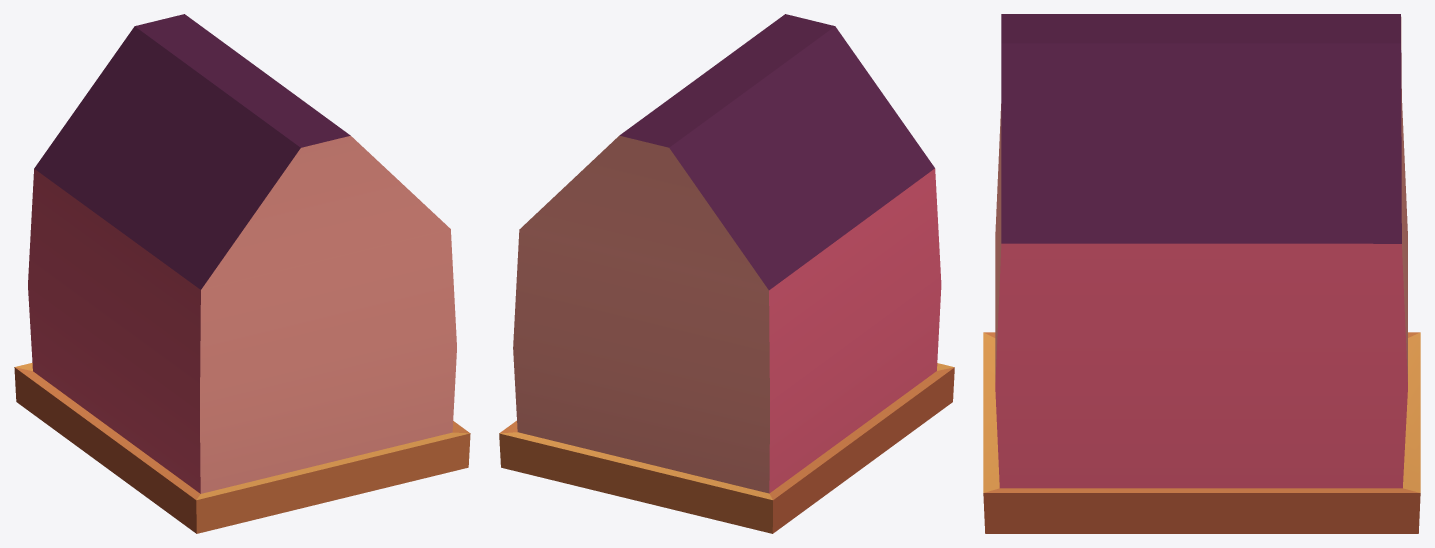
Rendered from House01_Pink_Wood.glb.
3 views of the same model, side by side, from view 1: azimuth 30°, elevation 25°; view 2: azimuth 150°, elevation 25°; view 3: azimuth 270°, elevation 25° (orthographic). The views are drawn at different scales.
Parts seen in each view (by area): view 1: House01_Pink_Wood; view 2: House01_Pink_Wood; view 3: House01_Pink_Wood.
Boxes of the visible parts, left/top/right/bottom form: House01_Pink_Wood: left=14, top=14, right=470, bottom=533; House01_Pink_Wood: left=499, top=14, right=954, bottom=533; House01_Pink_Wood: left=983, top=14, right=1420, bottom=533.
Bounding box in the file's own units: 2.04 × 2.51 × 2.34.
Materials: 1 (1 with a texture image).
